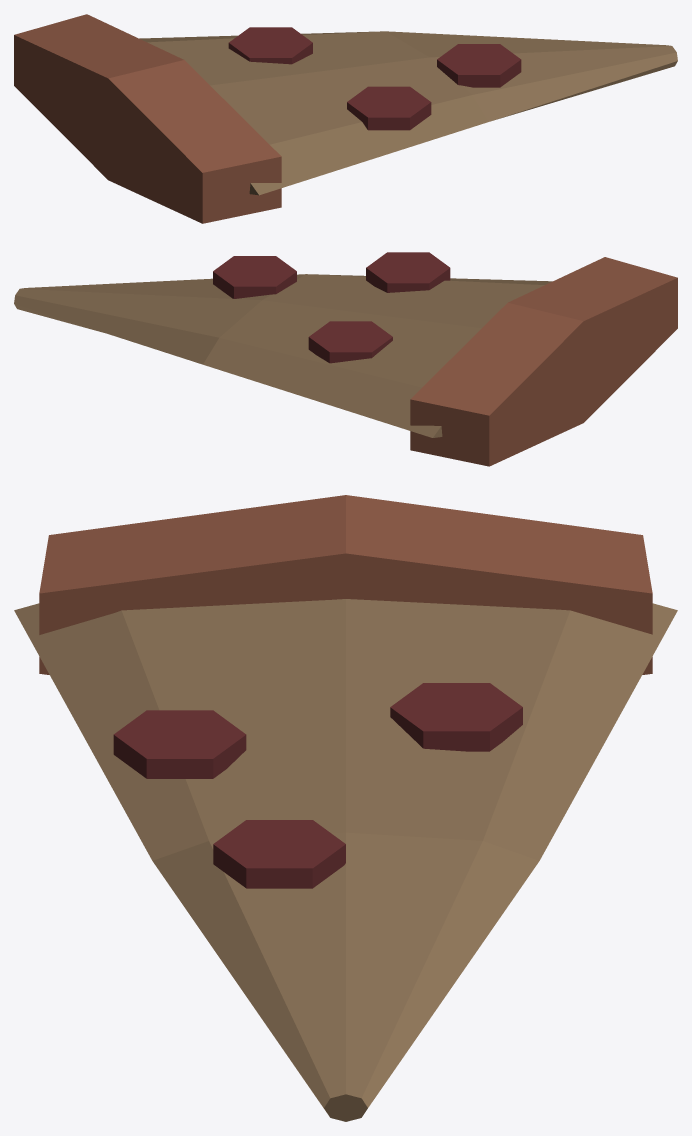
File: felie_pizza.glb
3 renders of one model, top to bottom at view 1: azimuth 30°, elevation 25°; view 2: azimuth 150°, elevation 25°; view 3: azimuth 270°, elevation 25°, orthographic. The views are drawn at different scales.
Parts seen in each view (by area): view 1: FeliePizza; view 2: FeliePizza; view 3: FeliePizza.
Boxes of the visible parts, <box> form: FeliePizza: <box>14,14,677,223</box>; FeliePizza: <box>14,252,677,466</box>; FeliePizza: <box>14,495,677,1121</box>.
Bounding box in the file's own units: 0.1854 × 0.039 × 0.12.
